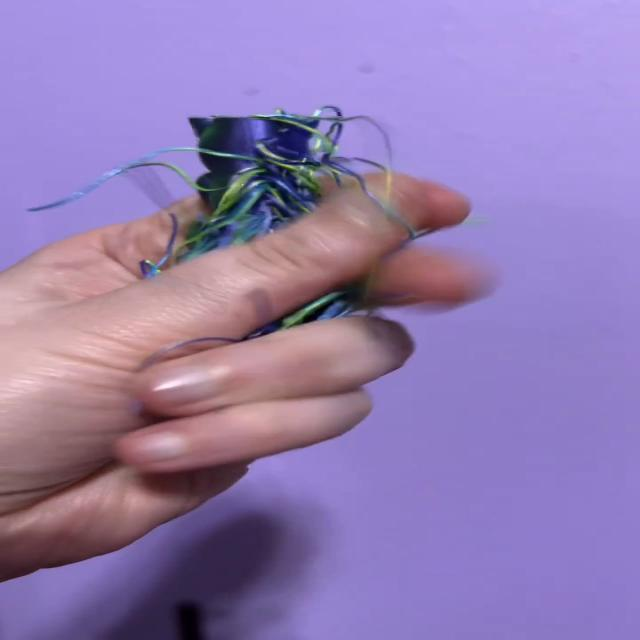spaghetti: (138, 111, 380, 242), (262, 293, 388, 324)
